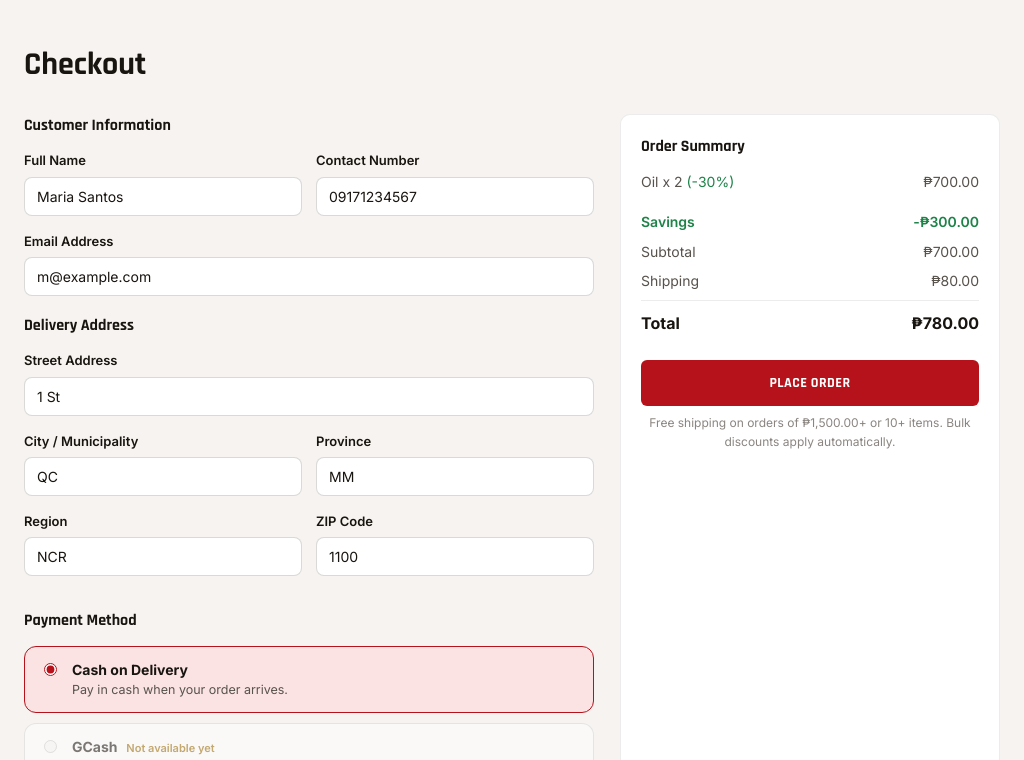
Test case: checkout › shows the server's message when the order cannot be placed
Click the button "Place Order".
click(810, 383)  # box top-left (641, 360), bottom-right (979, 406)
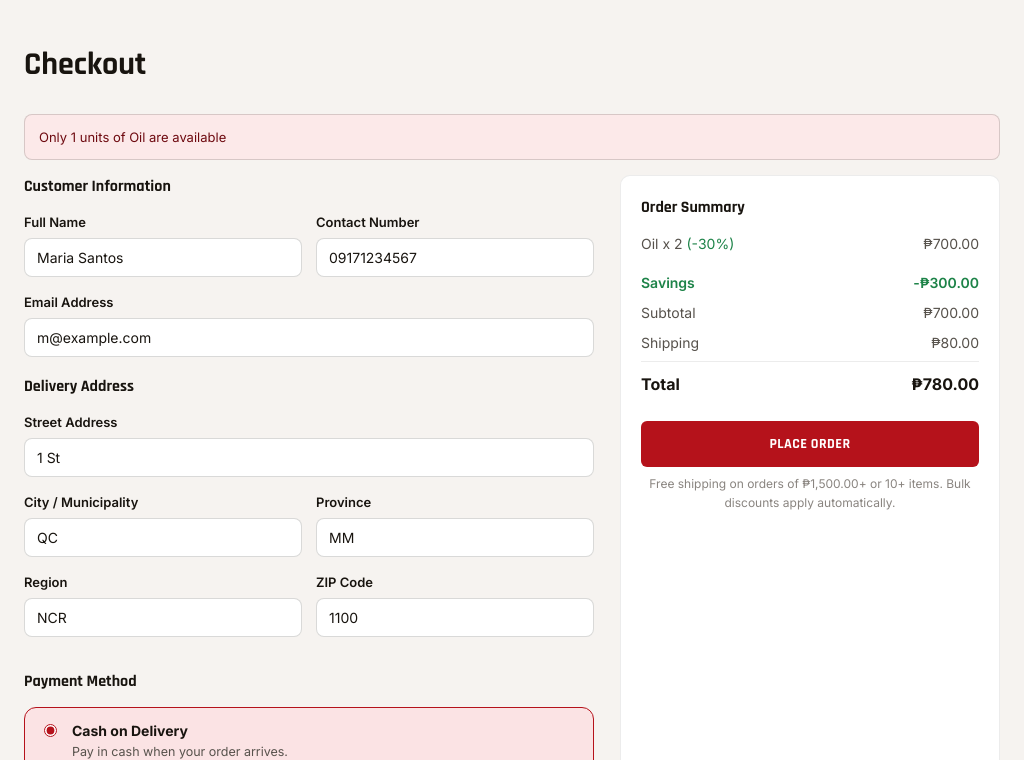
Now the text "Only 1 units of Oil are available" is shown, box top-left (24, 114), bottom-right (1000, 160)
